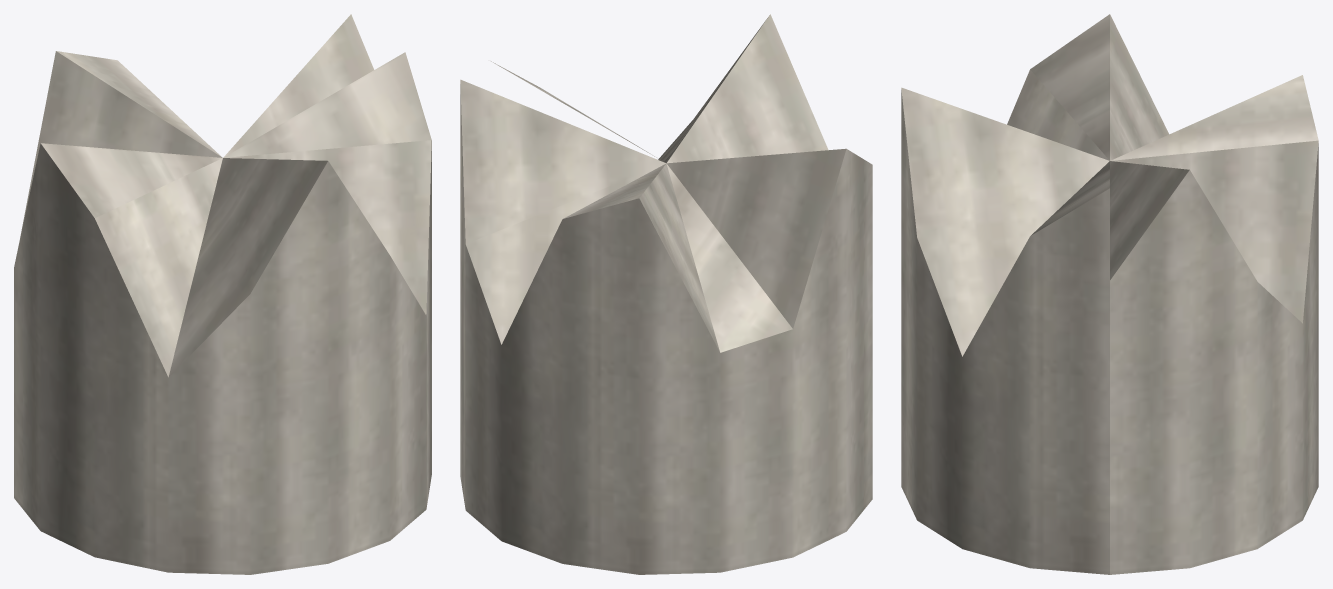
File: debris_dc_column_drum.glb
3 views of the same model, side by side, from view 1: azimuth 30°, elevation 25°; view 2: azimuth 150°, elevation 25°; view 3: azimuth 270°, elevation 25° (orthographic).
Parts seen in each view (by area): view 1: debris_dc_column_drum; view 2: debris_dc_column_drum; view 3: debris_dc_column_drum.
Boxes of the visible parts, x1,y1,x2,y2 form: debris_dc_column_drum: (14,14,431,574); debris_dc_column_drum: (460,14,872,574); debris_dc_column_drum: (901,14,1318,574).
Bounding box in the file's own units: 1.8 × 1.9 × 1.8.
Materials: 1 (1 with a texture image).
